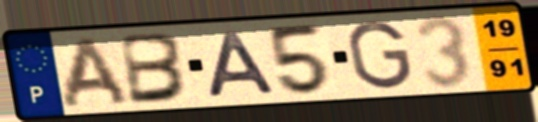3: (414, 11, 477, 91)
5: (266, 21, 334, 98)
A: (58, 35, 134, 110), (202, 29, 280, 100)
B: (118, 31, 192, 107)
G: (344, 19, 415, 92)
